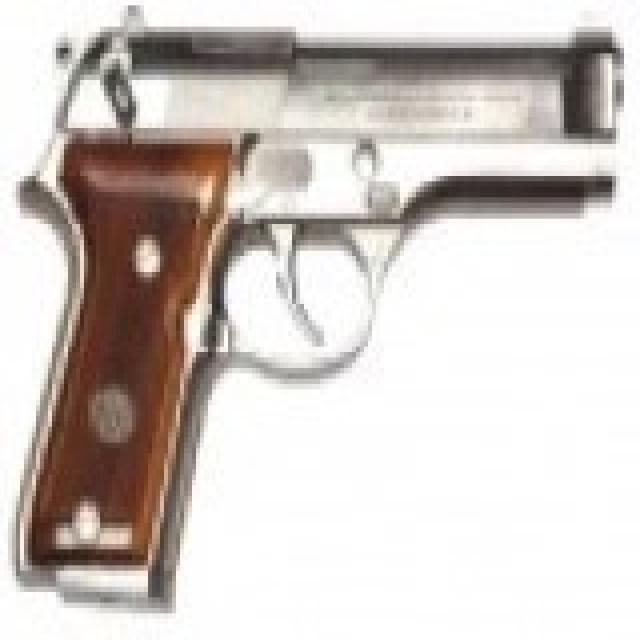Gun: (14, 10, 628, 605)
